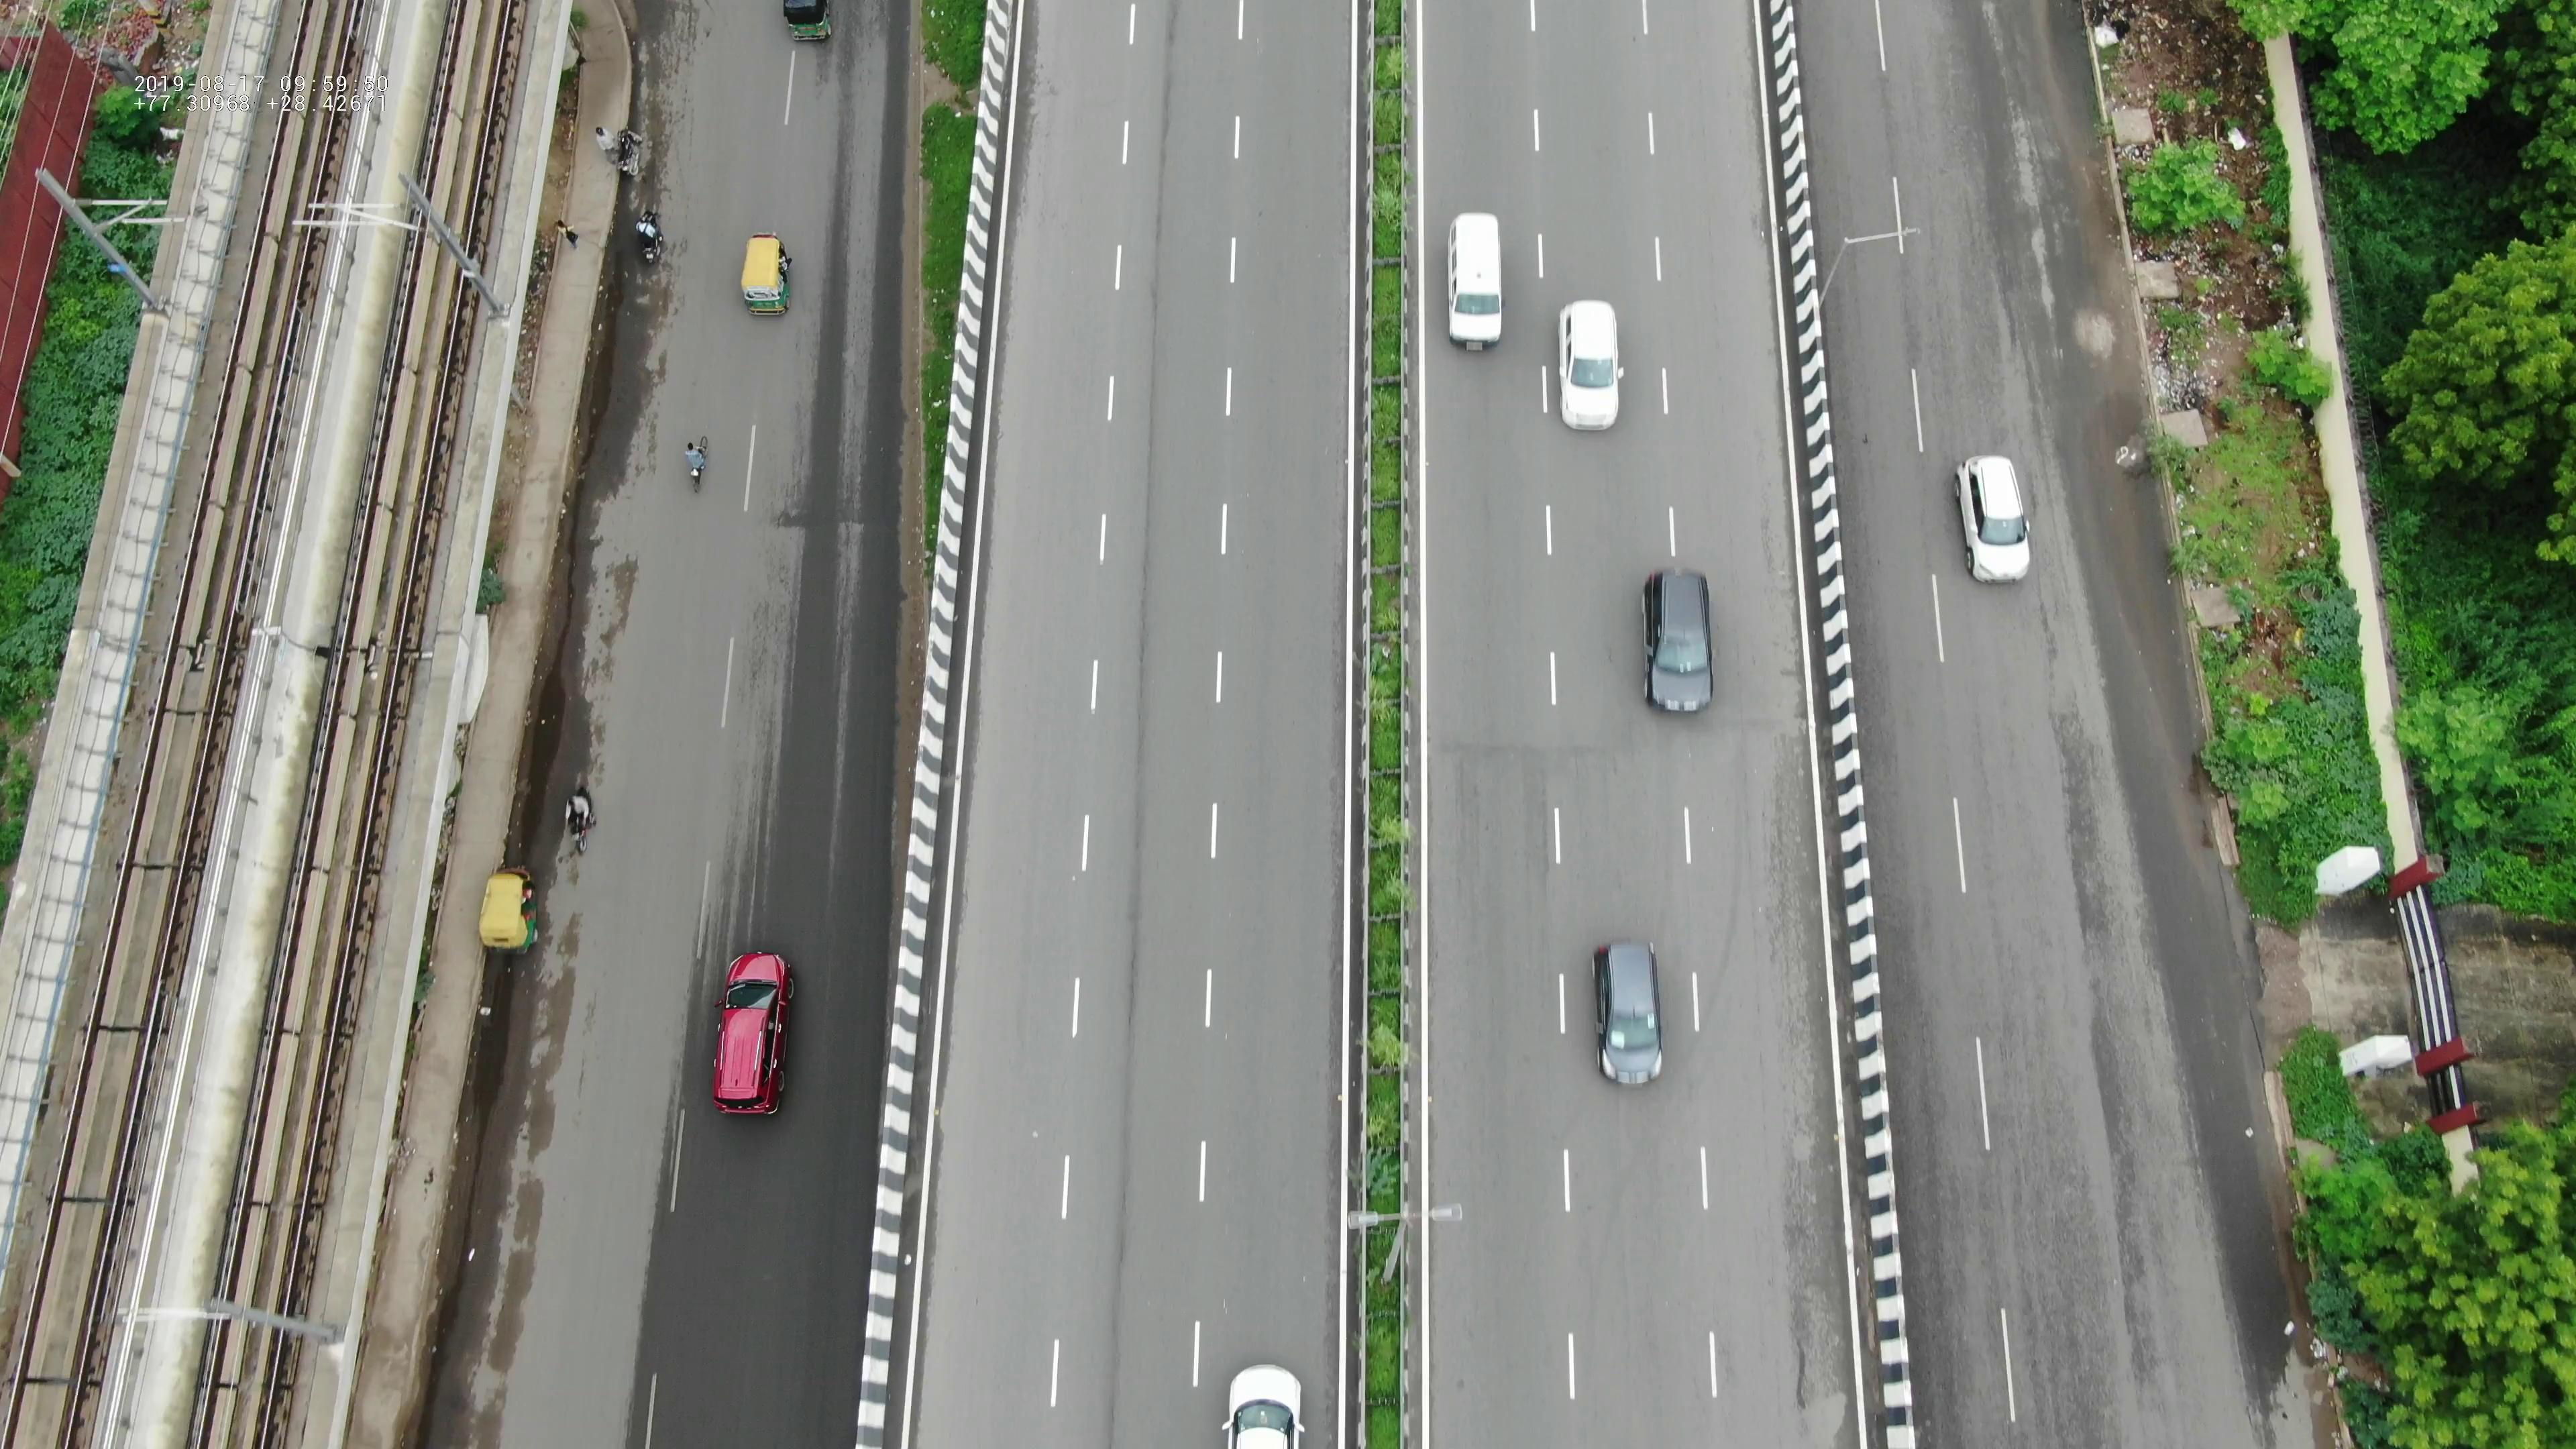Ravelling: (1113, 407, 1155, 1065)
Waterlogging: (2079, 409, 2226, 874), (467, 998, 522, 1115), (525, 688, 593, 764), (580, 326, 628, 395), (550, 543, 593, 610), (566, 446, 609, 510)
